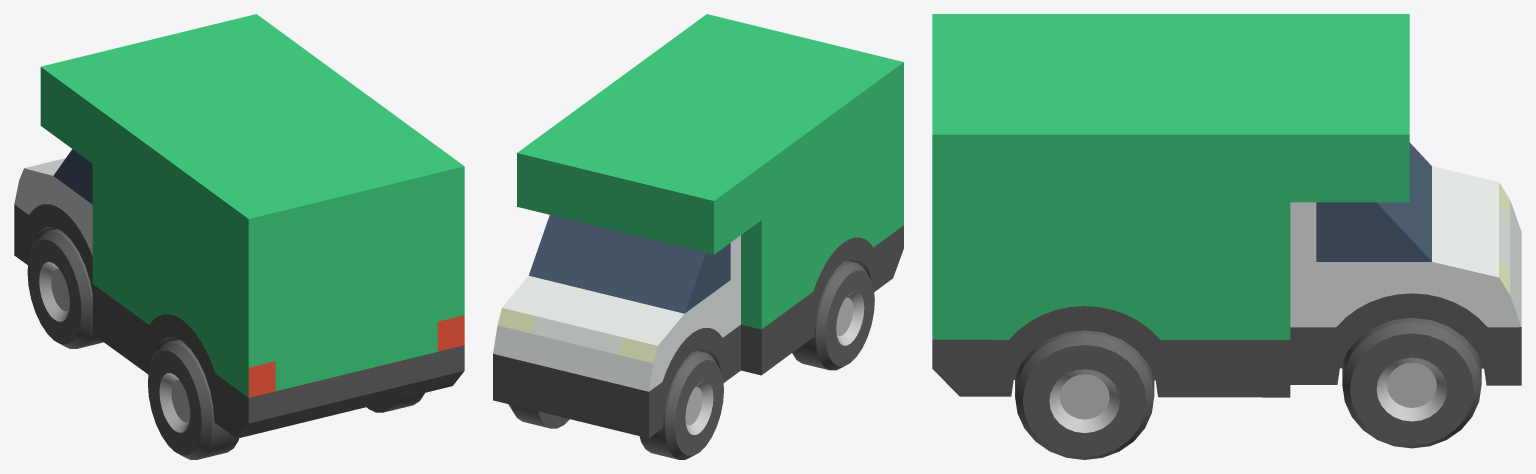
File: carDelivery.obj
3 renders of one model, left to right at view 1: azimuth 30°, elevation 25°; view 2: azimuth 150°, elevation 25°; view 3: azimuth 270°, elevation 25°, orthographic. The views are drawn at different scales.
Visible parts, largest first — view 1: body 1, wheelBackLeft 1, wheelFrontLeft 1, wheelBackRight 1; view 2: body 1, wheelBackLeft 1, wheelFrontLeft 1, wheelFrontRight 1; view 3: body 1, wheelFrontRight 1, wheelBackRight 1.
Boxes of the visible parts, box(x1,y1,x2,y2) form: body 1: box(14, 14, 464, 438); wheelBackLeft 1: box(148, 339, 238, 459); wheelFrontLeft 1: box(27, 229, 103, 348); wheelBackRight 1: box(366, 393, 424, 412); body 1: box(493, 14, 903, 438); wheelBackLeft 1: box(792, 260, 874, 370); wheelFrontLeft 1: box(639, 350, 723, 459); wheelFrontRight 1: box(508, 404, 569, 428); body 1: box(932, 14, 1521, 397); wheelFrontRight 1: box(1342, 318, 1481, 448); wheelBackRight 1: box(1015, 330, 1154, 459).
Size of the model in its own units: 6.15 by 7.27 by 11.85.
